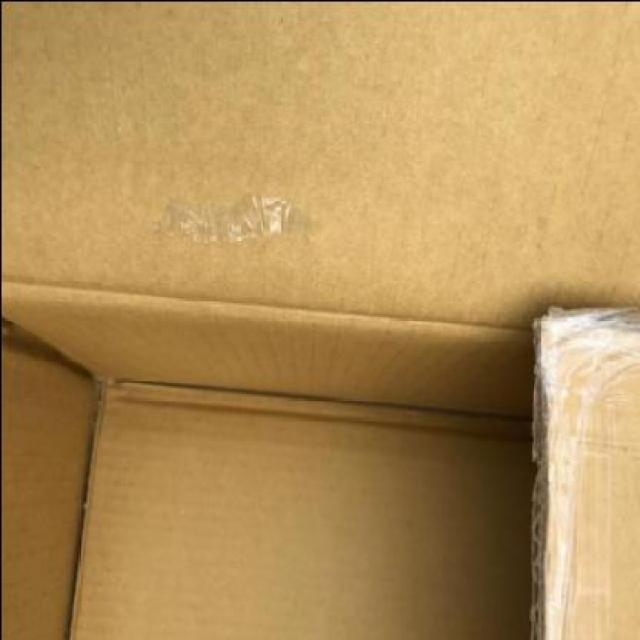CARDBOARD: (1, 1, 638, 638), (68, 378, 537, 638)
